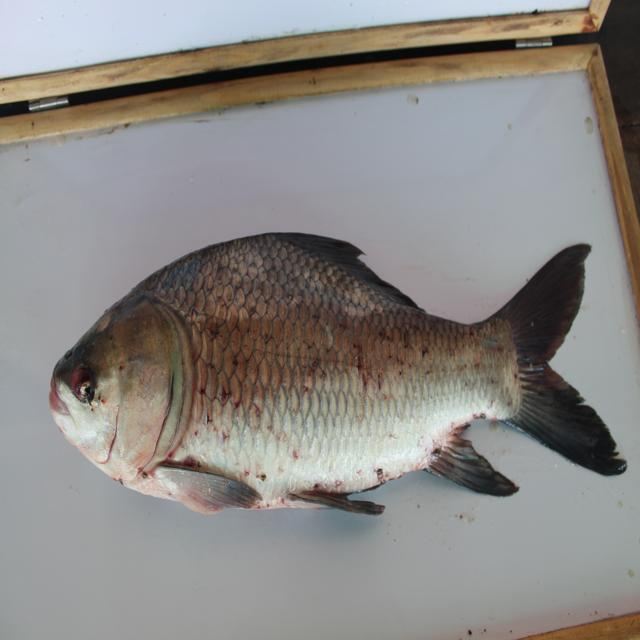Indian Carp: (50, 232, 624, 525)
